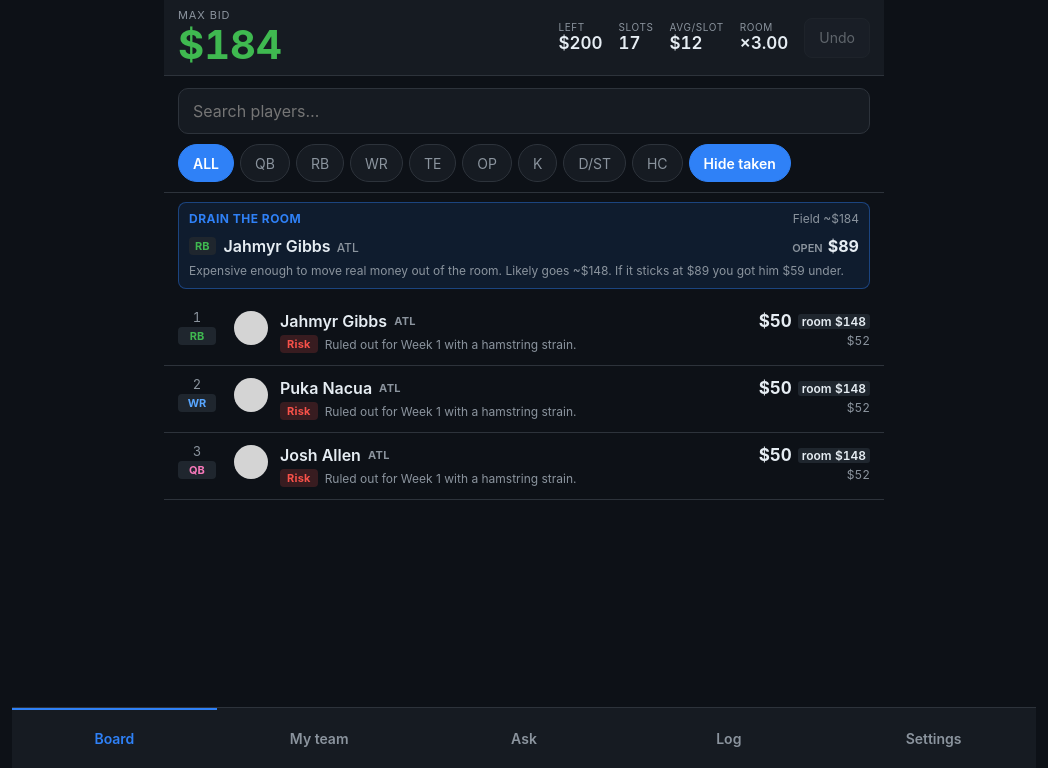
draft board end to end › surfaces a scout verdict on the row and its detail when expanded
Click the text "Jahmyr Gibbs": (334, 321) [280, 311, 387, 331]
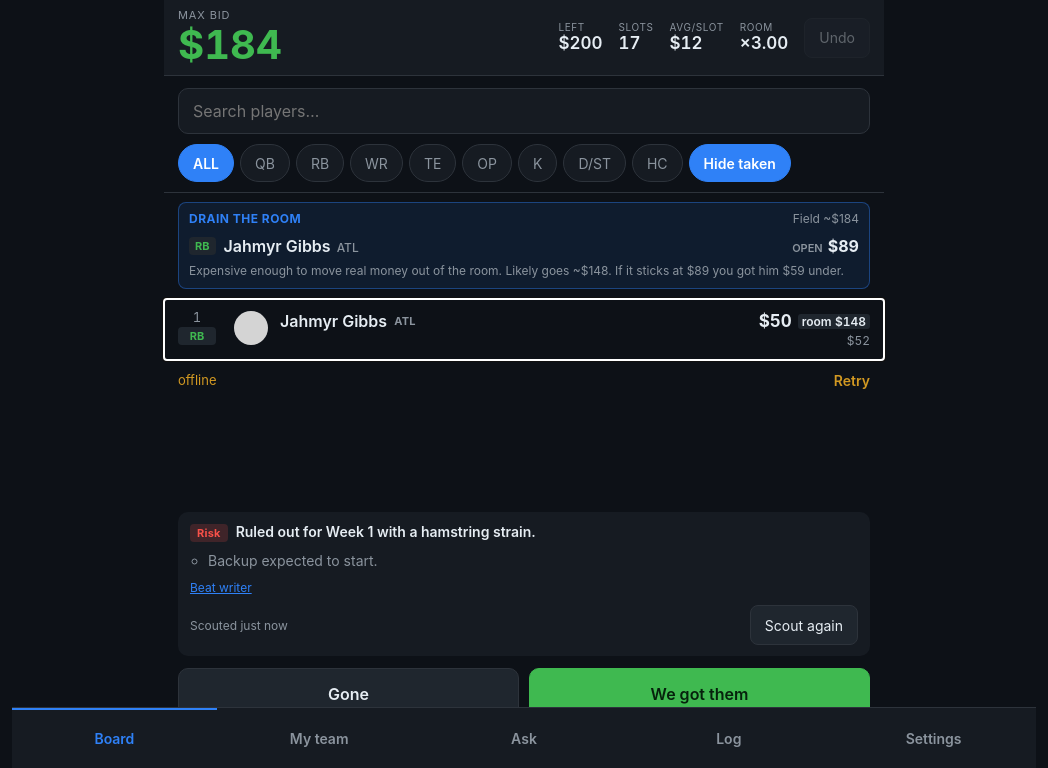
Check: the text "Ruled out for Week 1 with a hamstring strain." is shown, box [236, 523, 536, 542]
Check: the list item "Backup expected to start." is shown, box [208, 552, 378, 569]
